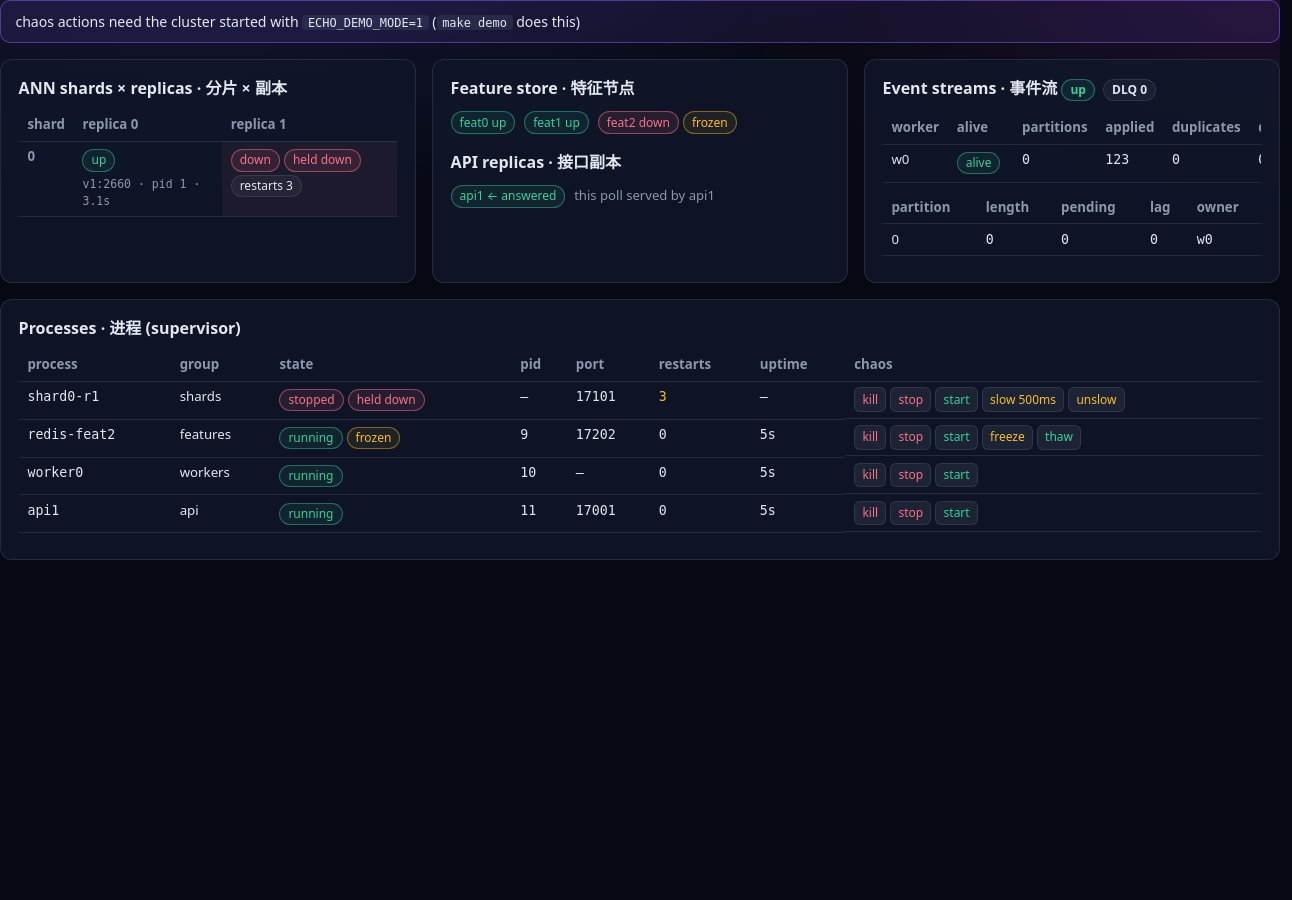
Test: Cluster › shows the API error when the chaos endpoint refuses (not demo mode)
Click the button with aria-label "stop worker0". click: [911, 475]
box: top-left (890, 463), bottom-right (931, 487)
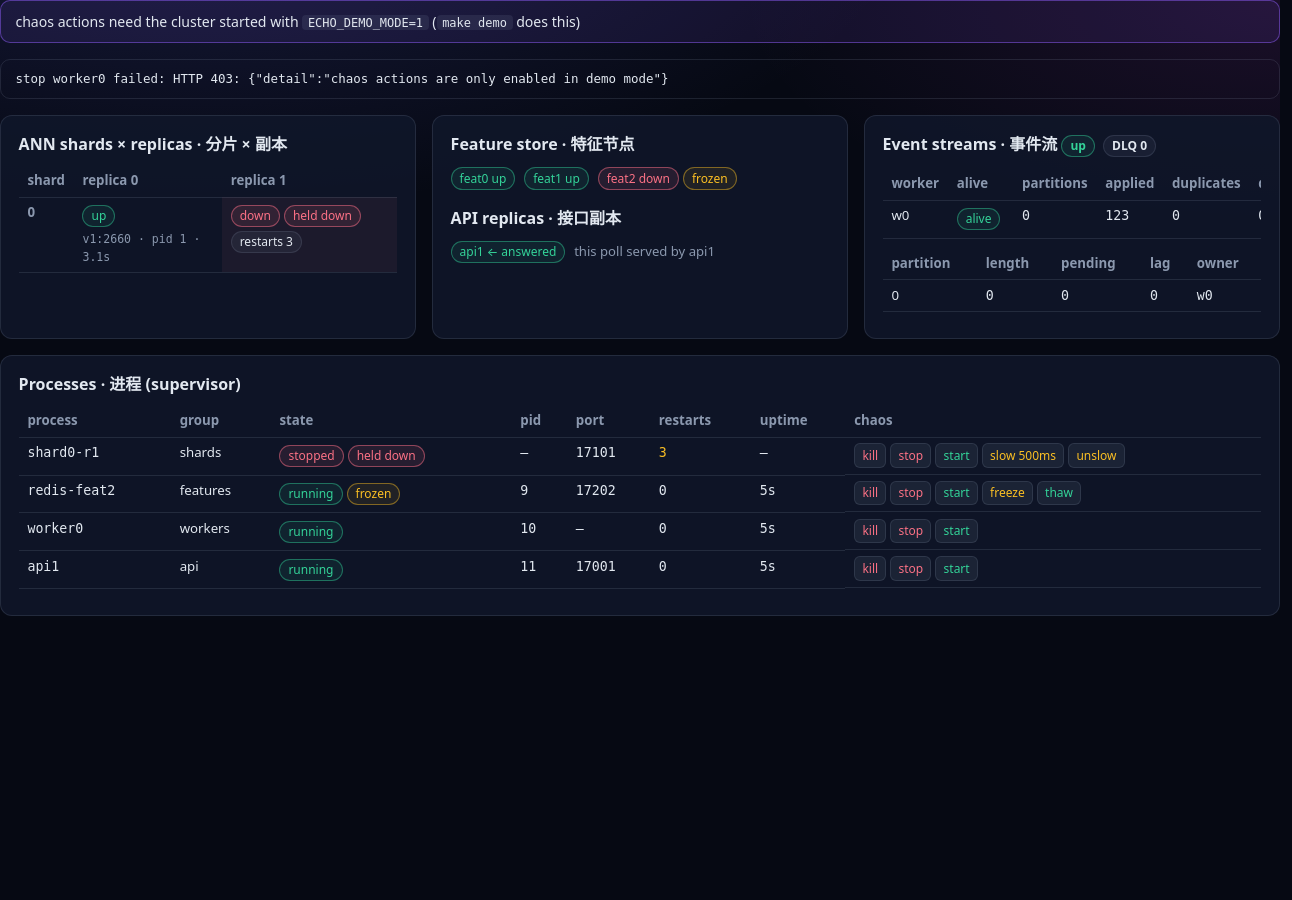
Check: the text "stop worker0 failed: HTTP 403" is shown, box top-left (15, 71), bottom-right (668, 86)
